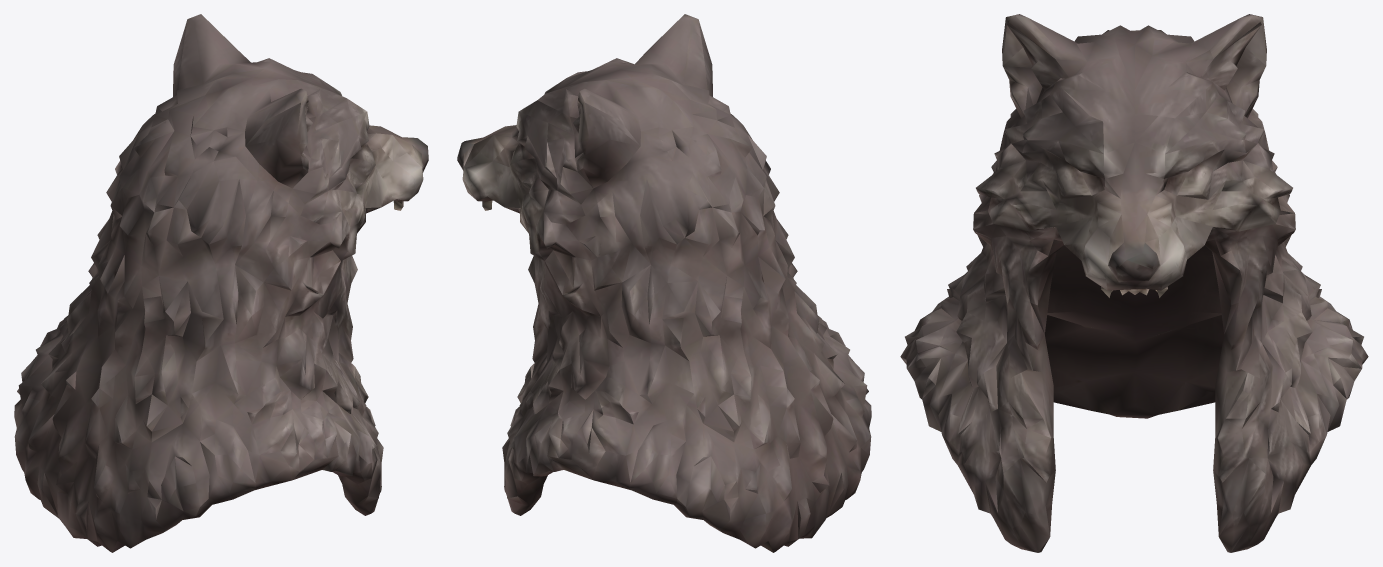
The model's file is beastmaster_hood.glb.
The picture shows the model from 3 angles, left to right: view 1: azimuth 30°, elevation 25°; view 2: azimuth 150°, elevation 25°; view 3: azimuth 270°, elevation 25°; orthographic projection. The views are drawn at different scales.
Visible parts, largest first — view 1: model; view 2: model; view 3: model.
Part boxes in pixels (x1,y1,x2,y2): model: [14, 14, 428, 552]; model: [457, 14, 871, 552]; model: [900, 14, 1368, 552].
Size of the model in its own units: 0.8724 by 1 by 0.8493.
1 material, 1 textured.
